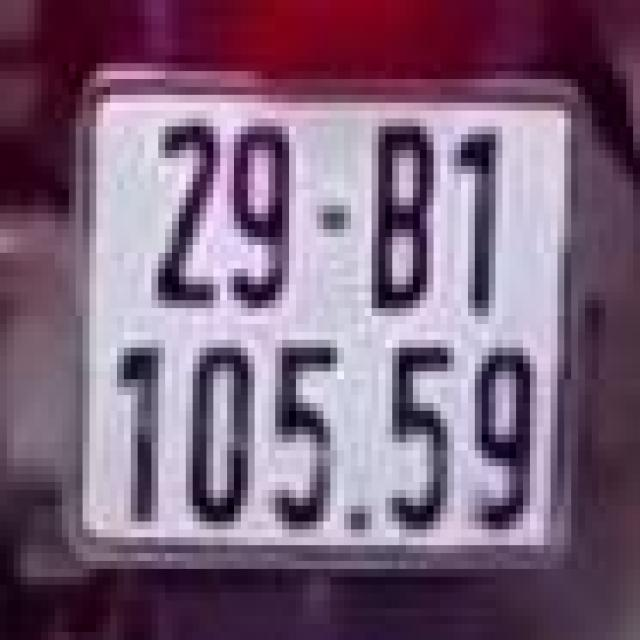0: (186, 336, 254, 525)
1: (451, 119, 506, 316), (110, 336, 165, 525)
2: (152, 115, 220, 312)
5: (268, 332, 344, 529), (382, 332, 451, 529)
9: (230, 119, 292, 308), (472, 344, 534, 533)
B: (365, 115, 440, 312)
